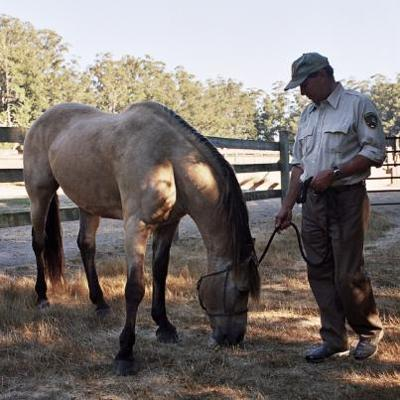person: (274, 55, 391, 360)
